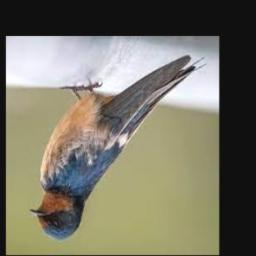Swallow: (31, 55, 206, 241)
